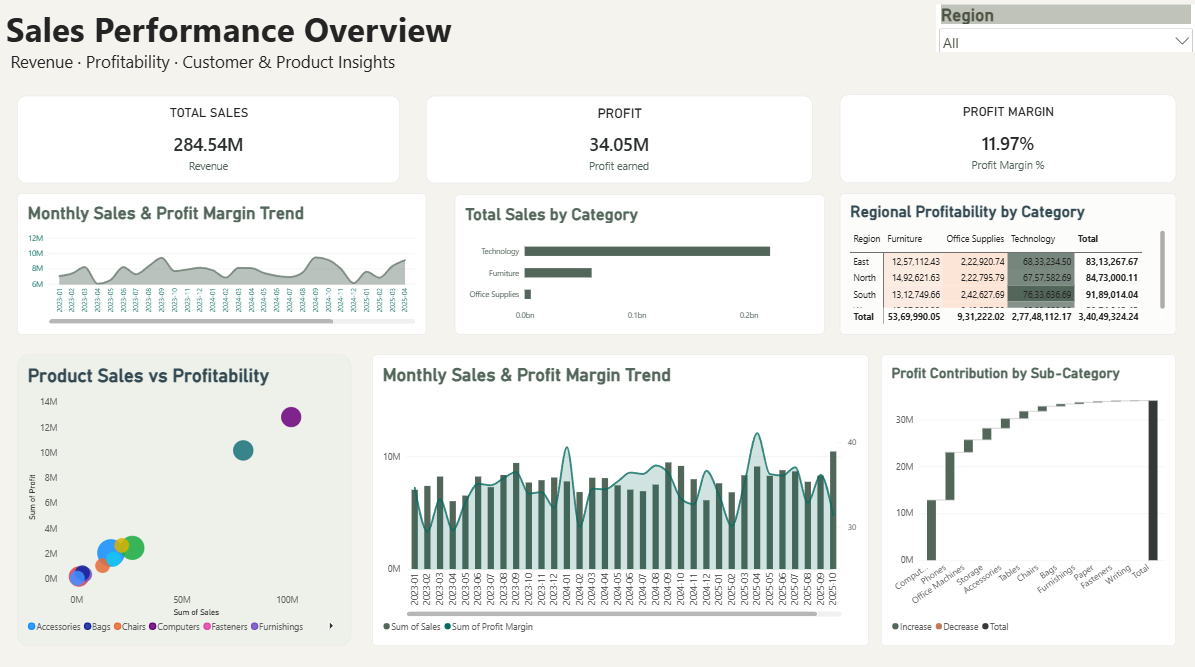

The dashboard page shown, as its layout file describes it:
{"tool":"powerbi","page":{"name":"advanced dashboard","canvas":[1920,1080],"ordinal":16},"visuals":[{"type":"card","title":"PROFIT","fields":{"Values":["Sum(superstore_sales_analytics.Profit)"]},"box":[688,158,618,140],"z":0},{"type":"card","title":"TOTAL SALES","fields":{"Values":["Sum(superstore_sales_analytics.Sales)"]},"box":[34,158,612,140],"z":1000},{"type":"card","title":"PROFIT MARGIN","fields":{"Values":["superstore_sales_analytics.Profit Margin %"]},"box":[1350,155,538.3,141.7],"z":2000},{"type":"textbox","box":[150,284,300,150],"z":3000},{"type":"textbox","box":[16.7,13.3,1890,121.7],"z":4000},{"type":"lineChart","title":"Monthly Sales & Profit Margin Trend","fields":{"Category":["superstore_sales_analytics.YearMonth"],"Y":["Sum(superstore_sales_analytics.Sales)"]},"box":[34,314,654,226],"z":5000},{"type":"clusteredBarChart","title":"Total Sales by Category","fields":{"Category":["superstore_sales_analytics.Category"],"Y":["Sum(superstore_sales_analytics.Sales)"]},"box":[734,316,592,224],"z":6000},{"type":"scatterChart","title":"Product Sales vs Profitability","fields":{"Series":["superstore_sales_analytics.Sub-Category"],"Size":["Sum(superstore_sales_analytics.Quantity)"],"X":["Sum(superstore_sales_analytics.Sales)"],"Y":["Sum(superstore_sales_analytics.Profit)"]},"box":[34,572,534,466],"z":7000},{"type":"pivotTable","title":"Regional Profitability by Category","fields":{"Columns":["superstore_sales_analytics.Category"],"Rows":["superstore_sales_analytics.Region"],"Values":["Sum(superstore_sales_analytics.Profit)"]},"box":[1350,314,538,226],"z":8000},{"type":"waterfallChart","title":"Profit Contribution by Sub-Category","fields":{"Category":["superstore_sales_analytics.Sub-Category"],"Y":["Sum(superstore_sales_analytics.Profit)"]},"box":[1416,572,472,466],"z":9000},{"type":"lineClusteredColumnComboChart","title":"Monthly Sales & Profit Margin Trend","fields":{"Category":["superstore_sales_analytics.YearMonth"],"Y":["Sum(superstore_sales_analytics.Sales)"],"Y2":["Sum(superstore_sales_analytics.Profit Margin)"]},"box":[602,572,794,466],"z":10000},{"type":"slicer","fields":{"Values":["superstore_sales_analytics.Region"]},"box":[1503.8,12.7,416.2,76],"z":10001}]}

Visuals, with their boxes in screenshot pixels (x1, y1, x2, y2), scaled from the page's 1920x1080 canvas onto the 1195x667 screenshot:
"PROFIT" card: pyautogui.locateOnScreen(428, 98, 813, 184)
"TOTAL SALES" card: pyautogui.locateOnScreen(21, 98, 402, 184)
"PROFIT MARGIN" card: pyautogui.locateOnScreen(840, 96, 1175, 183)
textbox: pyautogui.locateOnScreen(93, 175, 280, 268)
textbox: pyautogui.locateOnScreen(10, 8, 1187, 83)
"Monthly Sales & Profit Margin Trend" lineChart: pyautogui.locateOnScreen(21, 194, 428, 334)
"Total Sales by Category" clusteredBarChart: pyautogui.locateOnScreen(457, 195, 825, 334)
"Product Sales vs Profitability" scatterChart: pyautogui.locateOnScreen(21, 353, 354, 641)
"Regional Profitability by Category" pivotTable: pyautogui.locateOnScreen(840, 194, 1175, 334)
"Profit Contribution by Sub-Category" waterfallChart: pyautogui.locateOnScreen(881, 353, 1175, 641)
"Monthly Sales & Profit Margin Trend" lineClusteredColumnComboChart: pyautogui.locateOnScreen(375, 353, 869, 641)
slicer - superstore_sales_analytics.Region: pyautogui.locateOnScreen(936, 8, 1194, 55)
